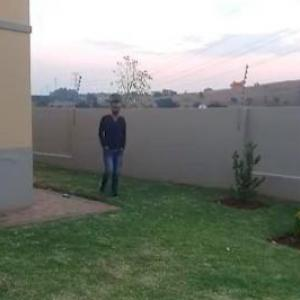follow: (92, 96, 128, 201)
